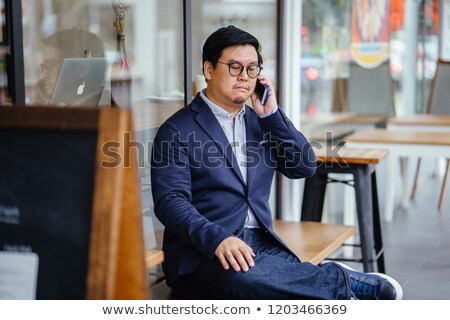phone: (258, 74, 279, 112)
talk: (224, 54, 286, 123)
